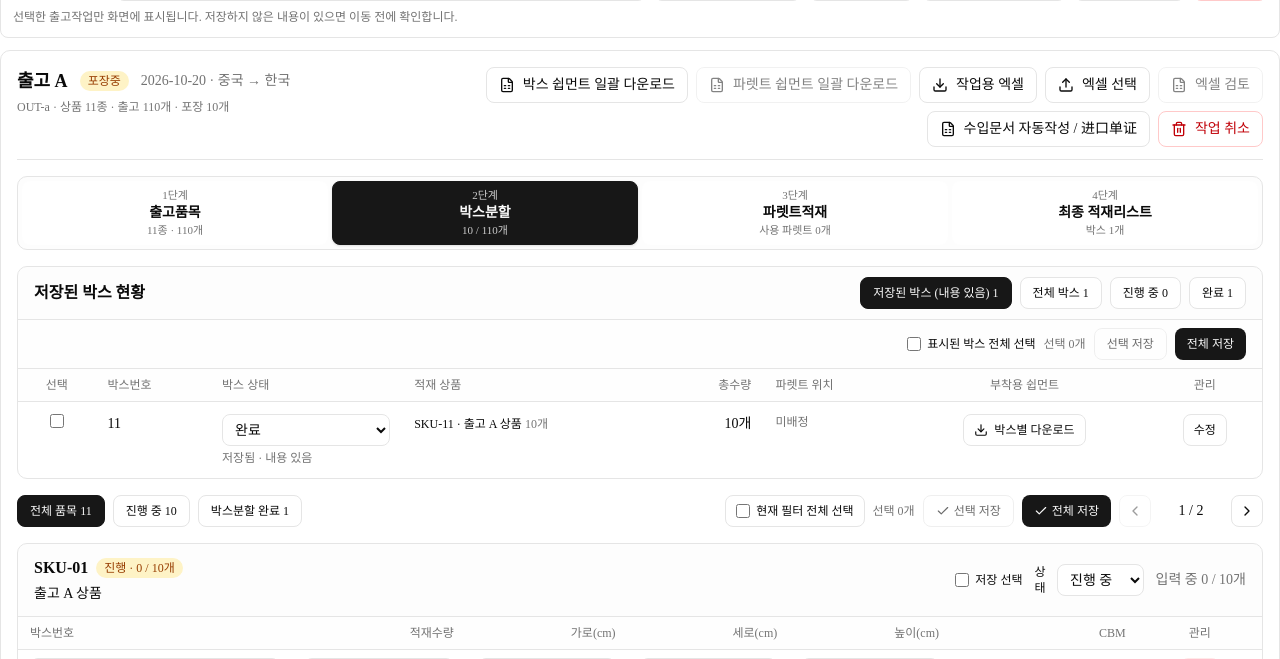
it: ChinaShipmentsBoard › opens a completed saved box in its editable product editor
Click the button with aria-label "11 박스 내용 수정". click: [1205, 430]
box: [1183,414,1227,446]
(page scrolled)
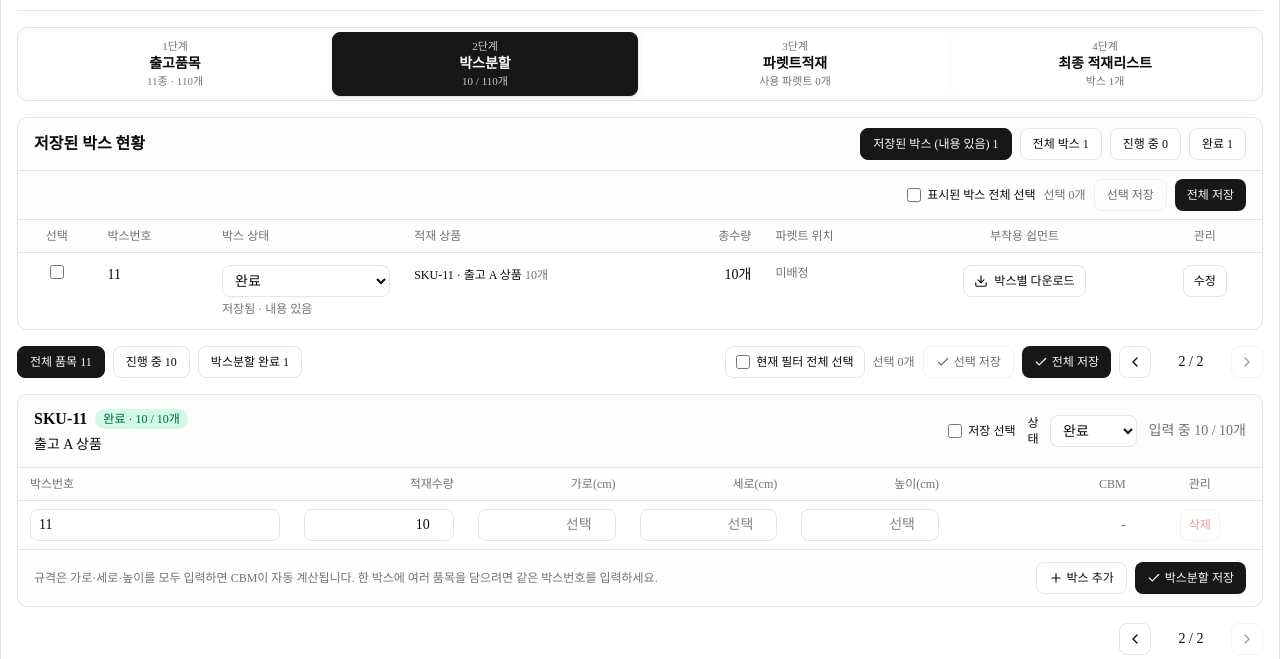
Expected: the text "2 / 2" is shown 2 times, [1178,354,1203,369]; [1178,631,1203,646]
Expected: the field with placeholder "1" holds "11", [30,509,280,541]
